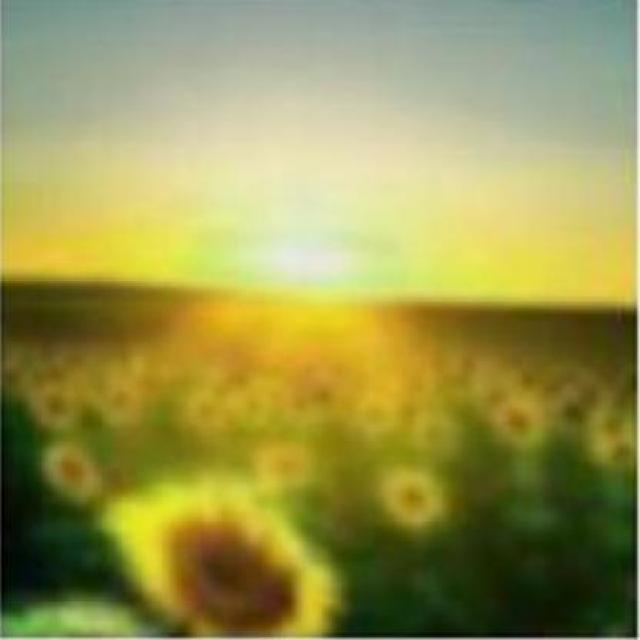sunflower: (114, 478, 337, 640)
